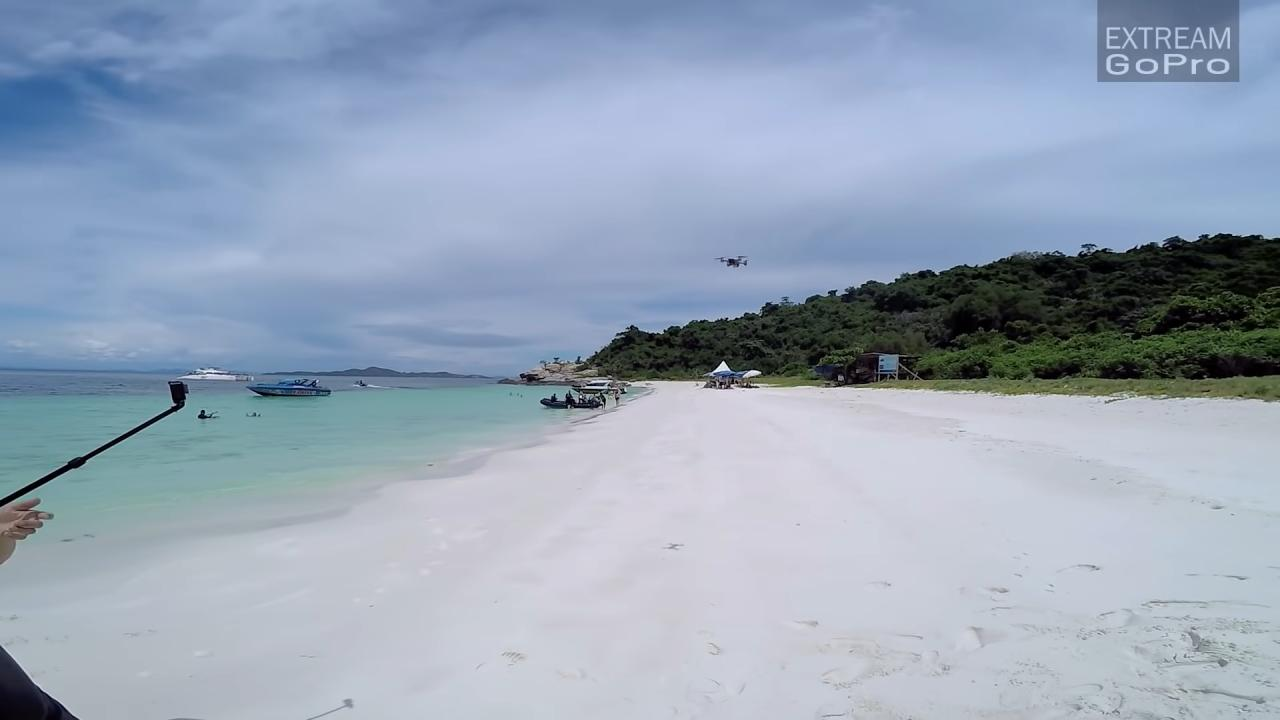Drone: (710, 243, 760, 278)
